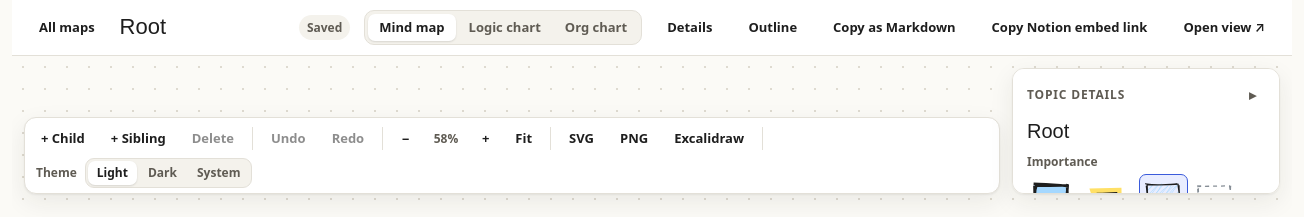
Scenario: with browser storage blocked › opens the editor and draws the map
Click the button with class "fold-details" at (1252, 95), box [1240,83,1265,107]
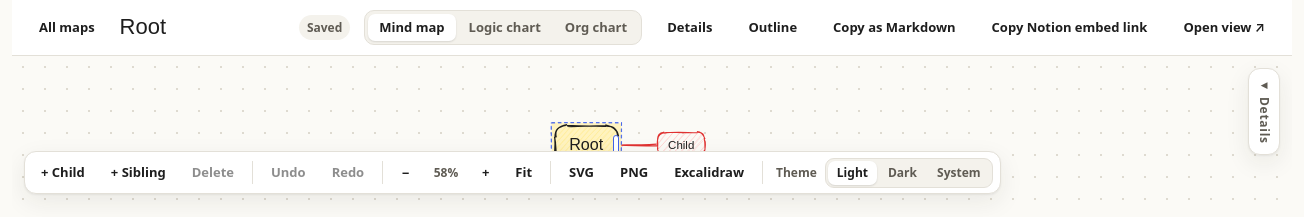
Now the button with class "details-tab" is shown, box [1248,68,1280,155]
